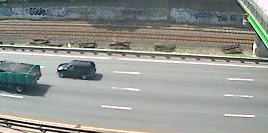car: (55, 59, 98, 83)
